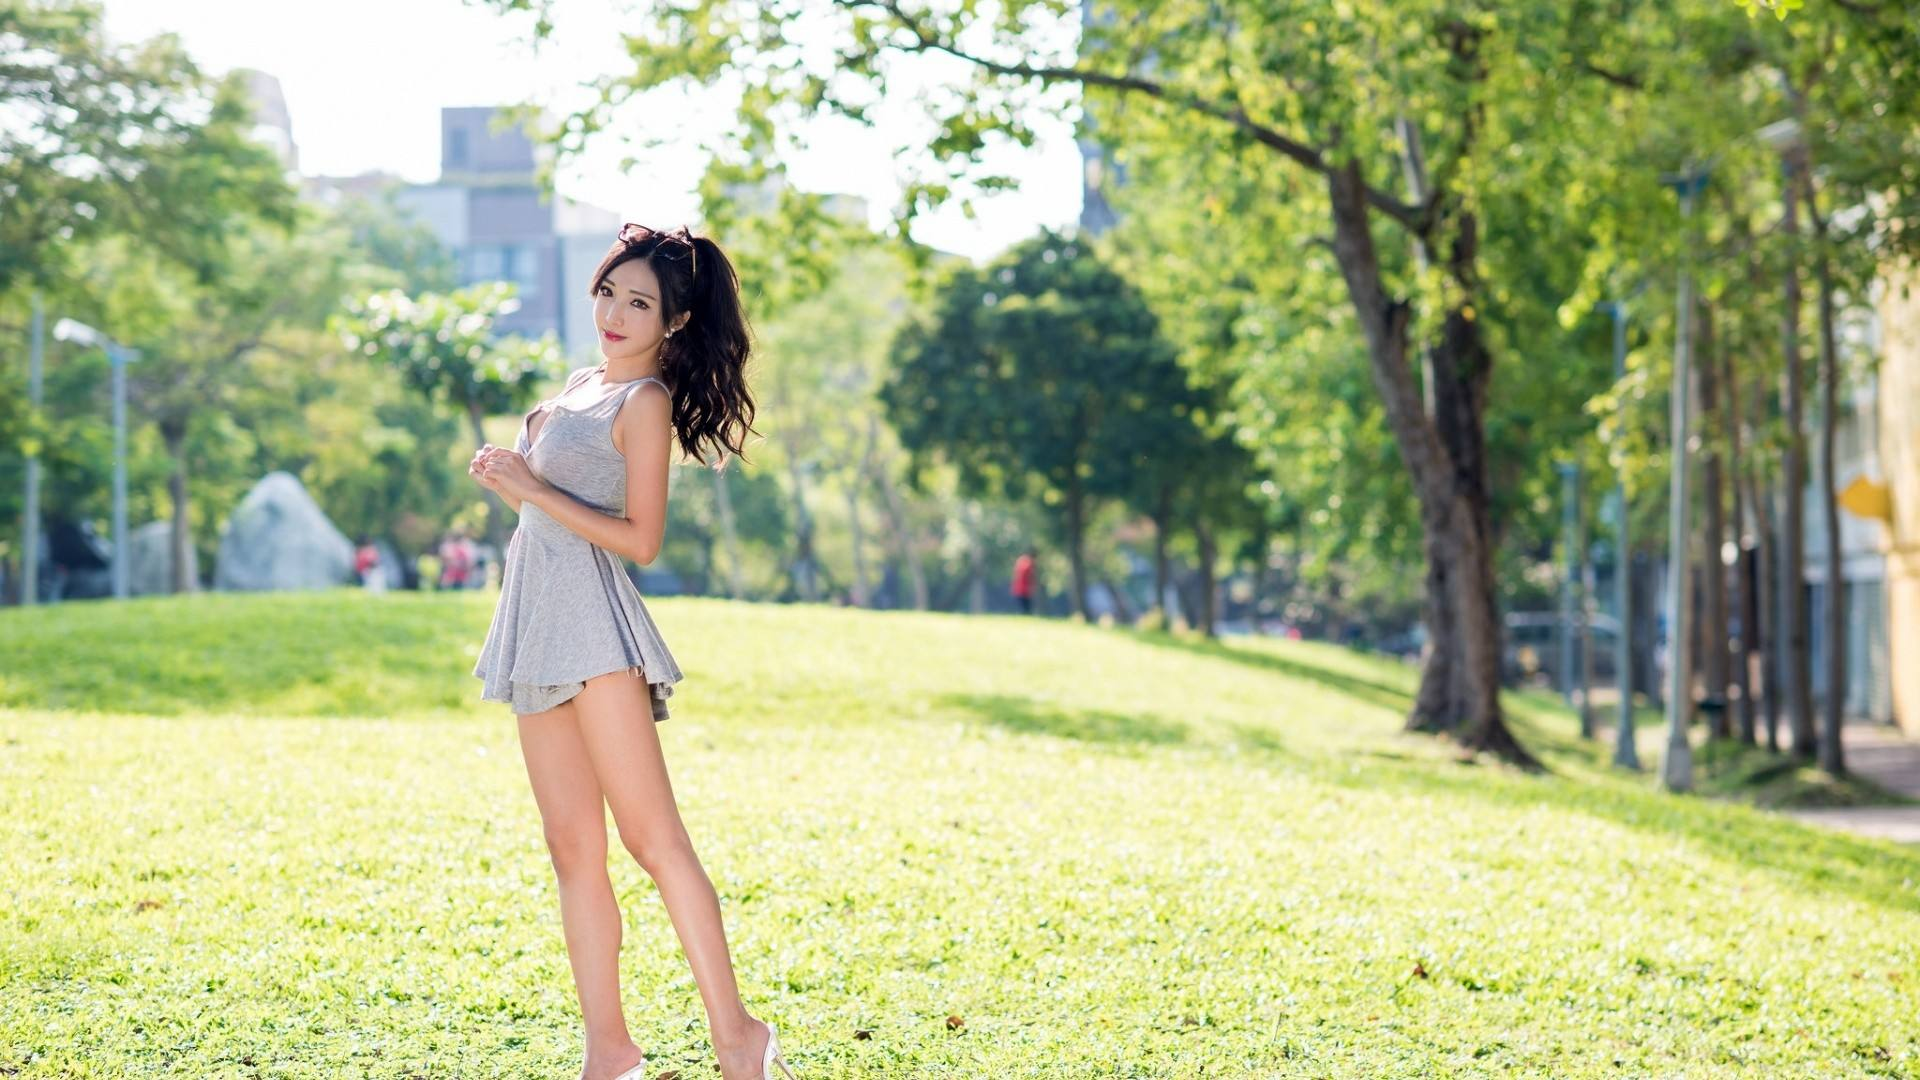person: (299, 233, 871, 1079)
